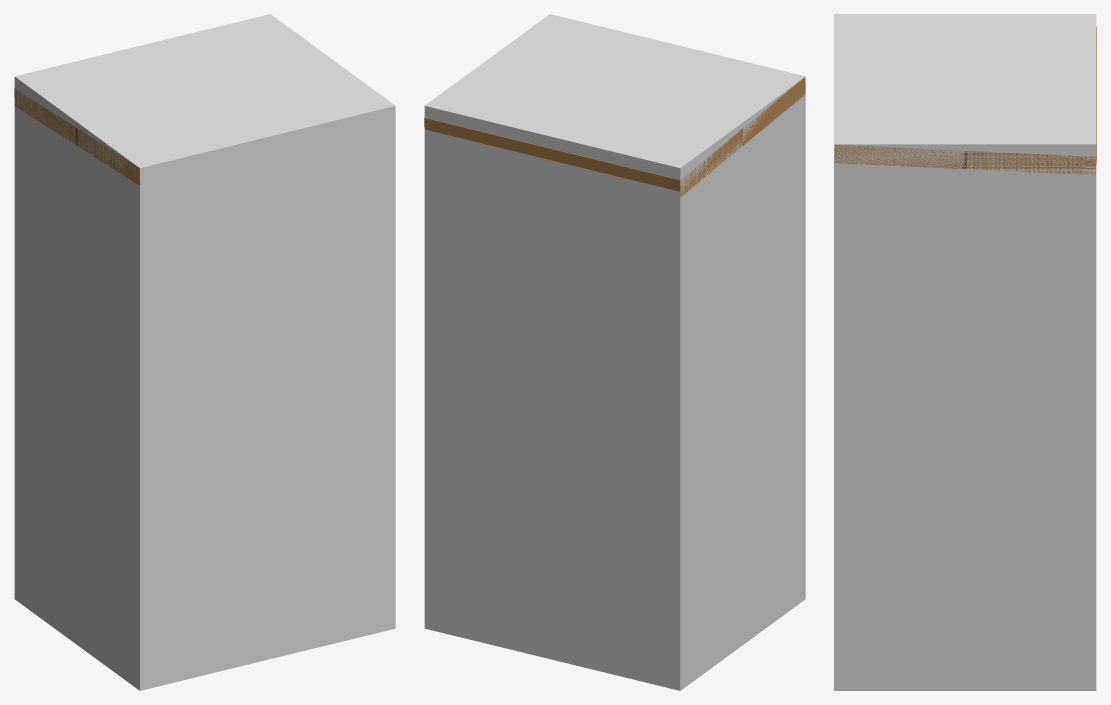
The model's file is FMS_Mailbox_Wood.fbx.
3 renders of one model, left to right at view 1: azimuth 30°, elevation 25°; view 2: azimuth 150°, elevation 25°; view 3: azimuth 270°, elevation 25°, orthographic. The views are drawn at different scales.
Parts seen in each view (by area): view 1: FMS_Mailbox_Wood_Col, FMS_Mailbox_Wood_LOD0; view 2: FMS_Mailbox_Wood_Col, FMS_Mailbox_Wood_LOD0; view 3: FMS_Mailbox_Wood_Col, FMS_Mailbox_Wood_LOD0.
Part boxes in pixels (x1,y1,x2,y2): FMS_Mailbox_Wood_Col: (14, 14, 395, 690); FMS_Mailbox_Wood_LOD0: (14, 88, 139, 185); FMS_Mailbox_Wood_Col: (424, 14, 805, 690); FMS_Mailbox_Wood_LOD0: (424, 77, 805, 196); FMS_Mailbox_Wood_Col: (834, 14, 1096, 690); FMS_Mailbox_Wood_LOD0: (834, 26, 1096, 174).
Size of what is drawn, in the model's own units: 0.53 by 1.03 by 0.4512.
Materials: 1 (1 with a texture image).
